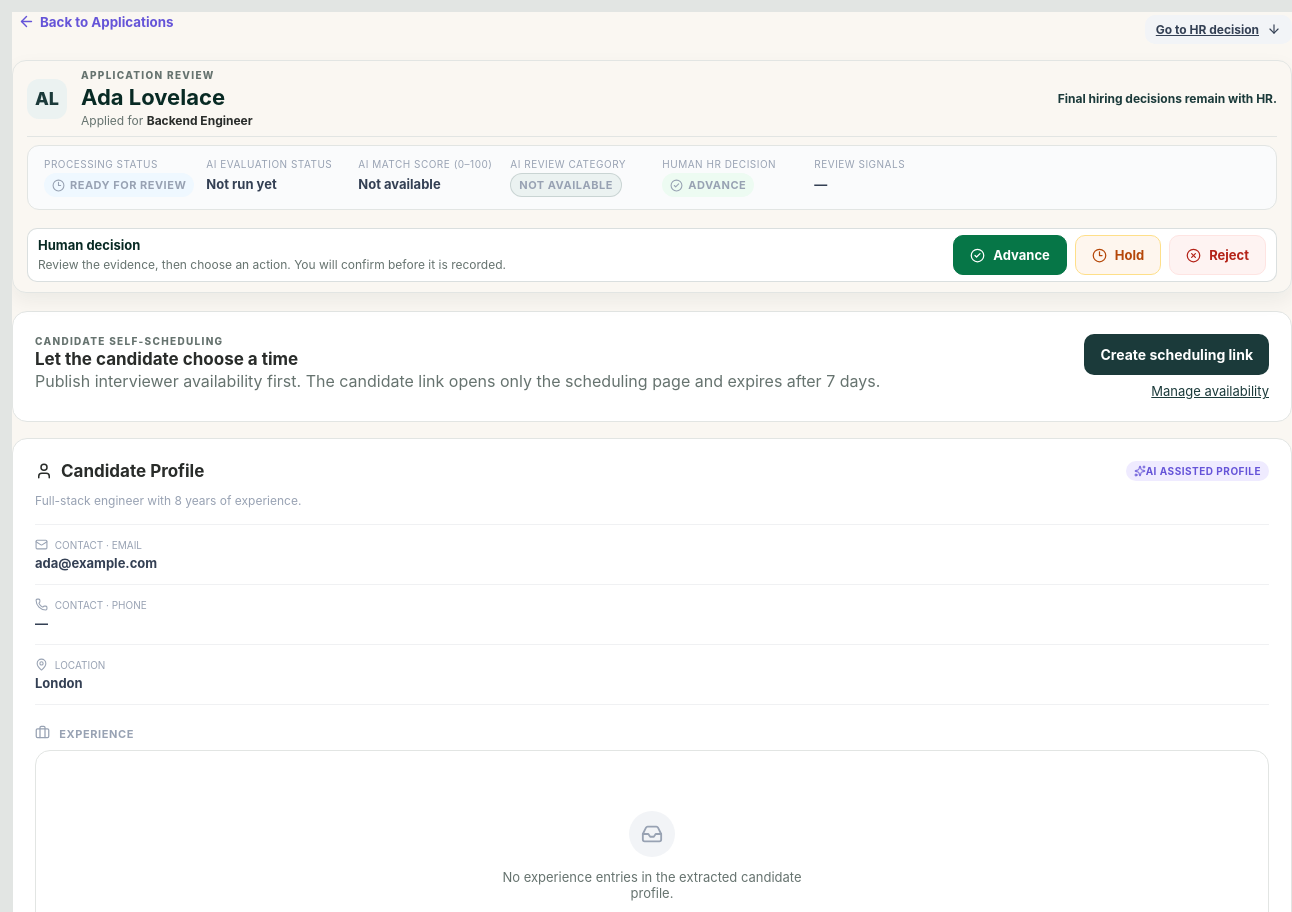
Test: ApplicationReview pipeline decision › offers a one-use candidate scheduling link only after an Advance decision
Expected: the heading "Ada Lovelace" is shown, [81,84,225,110]
Click the button "Create scheduling link": (1177, 355) [1084,334,1269,375]
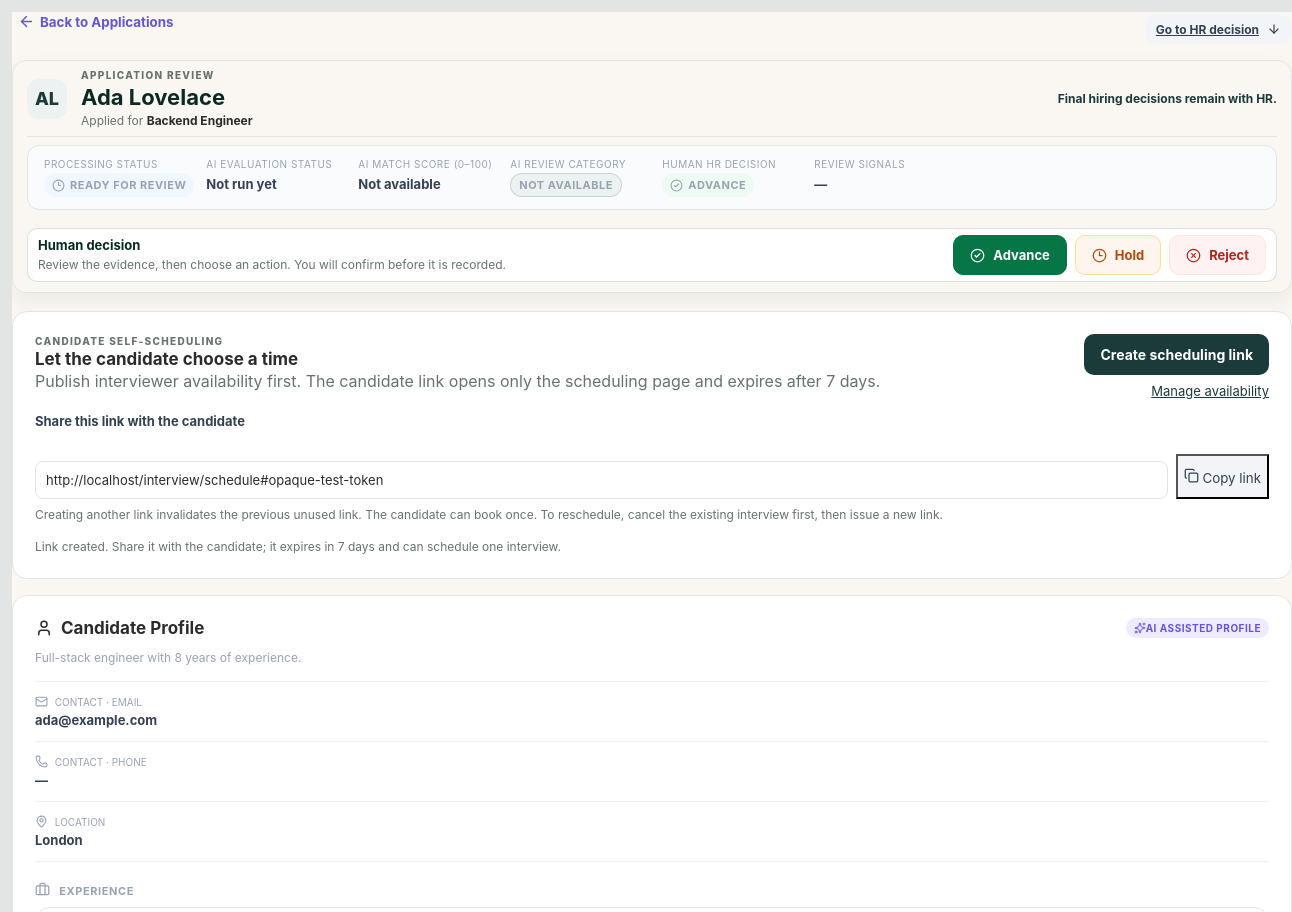
Expected: the text "invalidates the previous unused link" is shown, [35,507,943,522]
